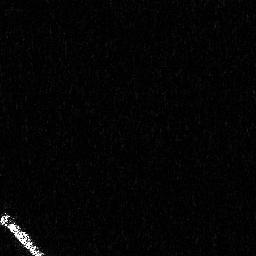ship: (1, 209, 49, 256)
